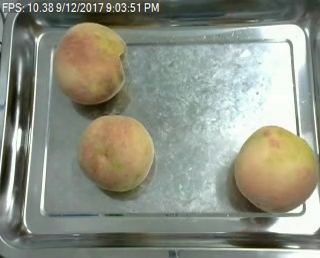Peach: (233, 126, 317, 211), (78, 114, 155, 191), (54, 22, 126, 104)
